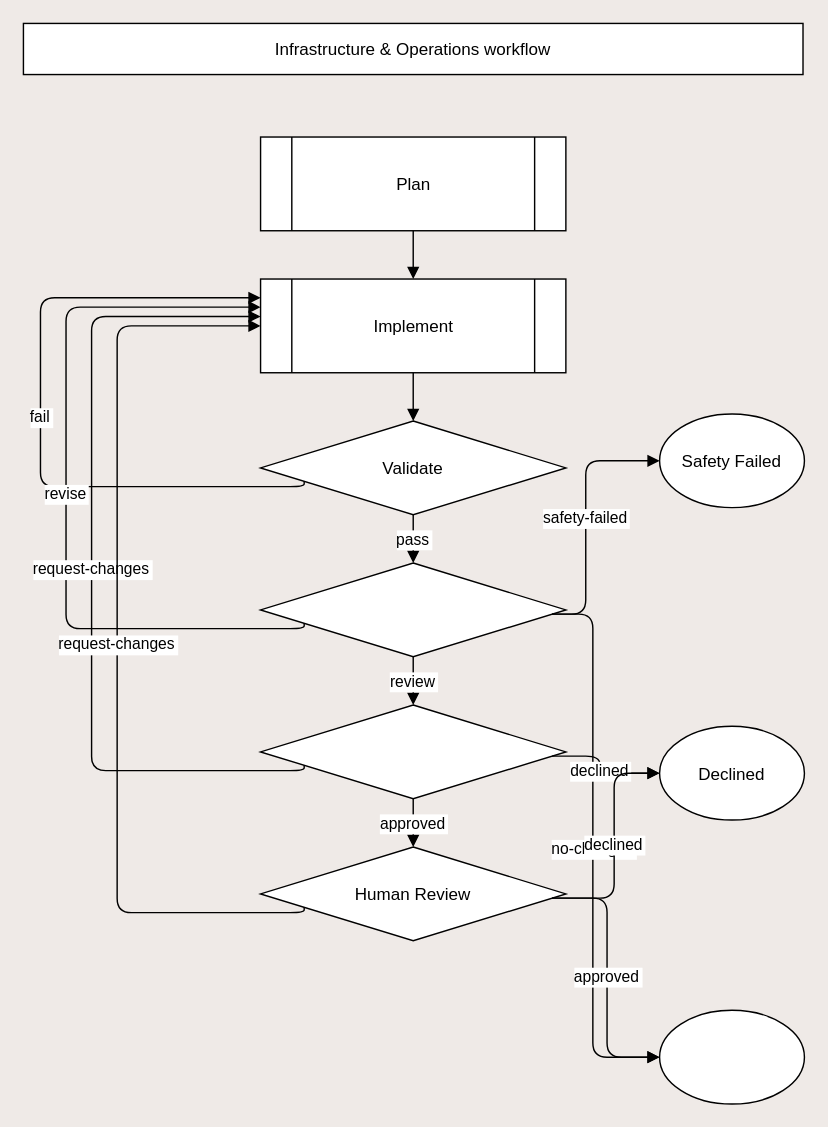
Image size: 828x1127. Some labels were removed from this diagram. Here are the shapes that lost their labels. From the top down, the centre of each, then its label:
At (412,609): "RAI Check".
At (412,751): "Infra & Config Review".
At (731,1056): "Done".
